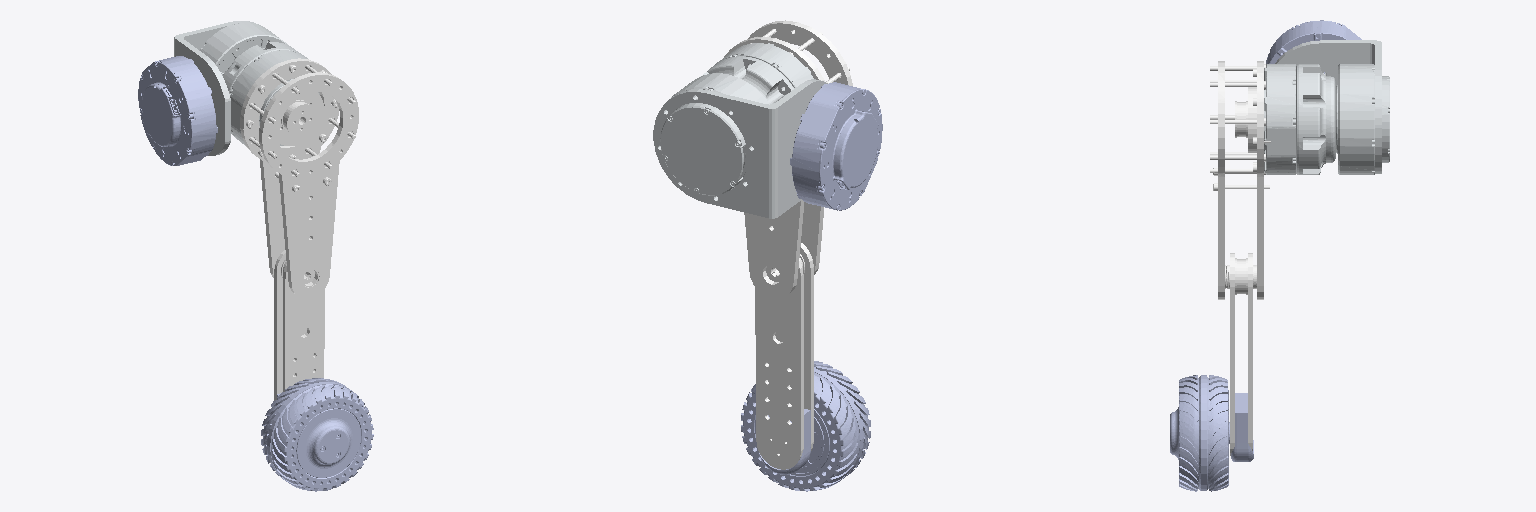
robot.urdf — unitree_go2_description:
<?xml version="1.0" encoding="utf-8"?>
<!-- This URDF was automatically created by SolidWorks to URDF Exporter! Originally created by Stephen Brawner (brawner@gmail.com) 
     Commit Version: 1.6.0-4-g7f85cfe  Build Version: 1.6.7995.38578
     For more information, please see http://wiki.ros.org/sw_urdf_exporter -->
<robot
  name="unitree_go2_description">
  <link
    name="base_link">
    <inertial>
      <origin
        xyz="-0.00010002215029517 0.0228448738643802 -6.11672235752876E-05"
        rpy="0 0 0" />
      <mass
        value="0.357167923727304" />
      <inertia
        ixx="0.000212416122465016"
        ixy="5.78512702265709E-08"
        ixz="4.59327733116839E-07"
        iyy="0.000392114500575741"
        iyz="4.49259695189825E-08"
        izz="0.000205317241420605" />
    </inertial>
    <visual>
      <origin
        xyz="0 0 0"
        rpy="0 0 0" />
      <geometry>
        <mesh filename="package://unitree_go2_description/meshes/base_link.STL" />
      </geometry>
      <material
        name="">
        <color
          rgba="0.792156862745098 0.819607843137255 0.933333333333333 1" />
      </material>
    </visual>
    <collision>
      <origin
        xyz="0 0 0"
        rpy="0 0 0" />
      <geometry>
        <mesh
          filename="package://unitree_go2_description/meshes/base_link.STL" />
      </geometry>
    </collision>
  </link>
  <link name="link1">
    <inertial>
      <origin
        xyz="0.001129306904799 -0.00947462257226582 9.13596840195884E-05"
        rpy="0 0 0" />
      <mass
        value="0.947300452289663" />
      <inertia
        ixx="0.00111873490293246"
        ixy="7.30359509003439E-05"
        ixz="-1.43873297155965E-06"
        iyy="0.00078517979424524"
        iyz="-3.12987663790632E-07"
        izz="0.000763322376827525" />
    </inertial>
    <visual>
      <origin
        xyz="0 0 0"
        rpy="0 0 0" />
      <geometry>
        <mesh
          filename="package://unitree_go2_description/meshes/link1.STL" />
      </geometry>
      <material
        name="">
        <color
          rgba="0.898039215686275 0.917647058823529 0.929411764705882 1" />
      </material>
    </visual>
    <collision>
      <origin
        xyz="0 0 0"
        rpy="0 0 0" />
      <geometry>
        <mesh
          filename="package://unitree_go2_description/meshes/link1.STL" />
      </geometry>
    </collision>
  </link>
  <joint
    name="joint1"
    type="revolute">
    <origin
      xyz="0.1 0 0"
      rpy="0 0 -1.57" />
    <parent
      link="base_link" />
    <child
      link="link1" />
    <axis
      xyz="0 -1 0" />
    <limit
      lower="0"
      upper="0"
      effort="0"
      velocity="0" />
  </joint>
  <link
    name="link2">
    <inertial>
      <origin
        xyz="-0.00225552724365171 3.33066907387547E-16 -0.0343737320927807"
        rpy="0 0 0" />
      <mass
        value="0.196599057823009" />
      <inertia
        ixx="0.000497085195710565"
        ixy="-2.75800059548838E-21"
        ixz="7.07440941991447E-08"
        iyy="0.000426570338400366"
        iyz="-2.09240339801704E-19"
        izz="7.53875379023833E-05" />
    </inertial>
    <visual>
      <origin
        xyz="0 0 0"
        rpy="0 0 0" />
      <geometry>
        <mesh
          filename="package://unitree_go2_description/meshes/link2.STL" />
      </geometry>
      <material
        name="">
        <color
          rgba="1 1 1 1" />
      </material>
    </visual>
    <collision>
      <origin
        xyz="0 0 0"
        rpy="0 0 0" />
      <geometry>
        <mesh
          filename="package://unitree_go2_description/meshes/link2.STL" />
      </geometry>
    </collision>
  </link>
  <joint
    name="joint2"
    type="revolute">
    <origin
      xyz="0.0687 0 0"
      rpy="0 0 0" />
    <parent
      link="link1" />
    <child
      link="link2" />
    <axis
      xyz="-1 0 0" />
    <limit
      lower="0"
      upper="0"
      effort="0"
      velocity="0" />
  </joint>
  <link
    name="link3">
    <inertial>
      <origin
        xyz="0.0007382591358602 -0.00020634074808757 -0.0548632970684372"
        rpy="0 0 0" />
      <mass
        value="0.0852846487060872" />
      <inertia
        ixx="0.000185708796333184"
        ixy="-1.56013163246759E-21"
        ixz="-9.2031119395315E-20"
        iyy="0.000175984739211195"
        iyz="-6.19895753218719E-07"
        izz="1.03591802710776E-05" />
    </inertial>
    <visual>
      <origin
        xyz="0 0 0"
        rpy="0 0 0" />
      <geometry>
        <mesh
          filename="package://unitree_go2_description/meshes/link3.STL" />
      </geometry>
      <material
        name="">
        <color
          rgba="1 1 1 1" />
      </material>
    </visual>
    <collision>
      <origin
        xyz="0 0 0"
        rpy="0 0 0" />
      <geometry>
        <mesh
          filename="package://unitree_go2_description/meshes/link3.STL" />
      </geometry>
    </collision>
  </link>
  <joint
    name="joint3"
    type="revolute">
    <origin
      xyz="0 0 -0.15"
      rpy="0 0 0" />
    <parent
      link="link2" />
    <child
      link="link3" />
    <axis
      xyz="1 0 0" />
    <limit
      lower="0"
      upper="0"
      effort="0"
      velocity="0" />
  </joint>
  <link
    name="wheel_Link">
    <inertial>
      <origin
        xyz="-8.53074253098982E-05 -4.03425466557333E-05 0.00201469560087997"
        rpy="0 0 0" />
      <mass
        value="0.0234148879496474" />
      <inertia
        ixx="8.42342982428427E-06"
        ixy="-1.65897836407293E-10"
        ixz="-4.10249837556976E-08"
        iyy="5.84430302598586E-06"
        iyz="-1.05128125342384E-08"
        izz="3.18170876581522E-06" />
    </inertial>
    <visual>
      <origin
        xyz="0 0 0"
        rpy="0 0 0" />
      <geometry>
        <mesh
          filename="package://unitree_go2_description/meshes/wheel_Link.STL" />
      </geometry>
      <material
        name="">
        <color
          rgba="0.792156862745098 0.819607843137255 0.933333333333333 1" />
      </material>
    </visual>
    <collision>
      <origin
        xyz="0 0 0"
        rpy="0 0 0" />
      <geometry>
        <mesh
          filename="package://unitree_go2_description/meshes/wheel_Link.STL" />
      </geometry>
    </collision>
  </link>
  <joint
    name="wheel_joint"
    type="revolute">
    <origin
      xyz="0 -0.0005436 -0.15"
      rpy="0 0 0" />
    <parent
      link="link3" />
    <child
      link="wheel_Link" />
    <axis
      xyz="-1 0 0" />
    <limit
      lower="0"
      upper="0"
      effort="0"
      velocity="0" />
  </joint>
</robot>

--- Facts derived from the render (not from the file) ---
Views: 3 orthographic renders of the robot side by side, from view 1: azimuth 30°, elevation 25°; view 2: azimuth 150°, elevation 25°; view 3: azimuth 270°, elevation 25°.
Model unitree_go2_description with 5 links and 4 joints (4 revolute), rooted at base_link, posed all joints at 0.
Visible links, largest first — view 1: link2, wheel_Link, link1, base_link, link3; view 2: link1, link3, base_link, link2, wheel_Link; view 3: link1, wheel_Link, link2, link3, base_link.
Boxes of the visible links, left/top/right/bottom form: link2: left=240, top=58, right=358, bottom=298; wheel_Link: left=261, top=378, right=373, bottom=491; link1: left=174, top=21, right=319, bottom=155; base_link: left=138, top=56, right=217, bottom=165; link3: left=274, top=250, right=324, bottom=400; link1: left=653, top=43, right=827, bottom=218; link3: left=755, top=243, right=813, bottom=469; base_link: left=790, top=82, right=882, bottom=210; link2: left=724, top=20, right=852, bottom=298; wheel_Link: left=741, top=361, right=870, bottom=491; link1: left=1264, top=40, right=1389, bottom=174; wheel_Link: left=1170, top=375, right=1253, bottom=491; link2: left=1210, top=61, right=1270, bottom=299; link3: left=1225, top=253, right=1256, bottom=455; base_link: left=1266, top=20, right=1361, bottom=73.
Size in the robot's own frame: 0.1583 by 0.1902 by 0.4008 metres.
Meshes: 5 distinct files referenced, 5 mesh visuals loaded (5 binary STL).
